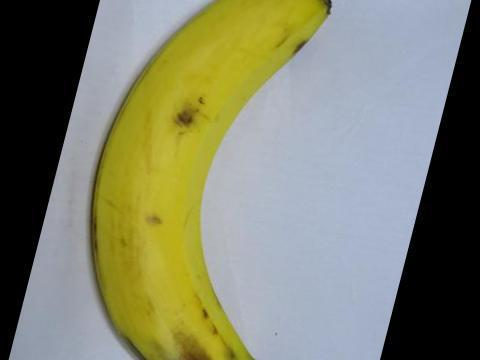freshripe: (75, 0, 362, 359)
